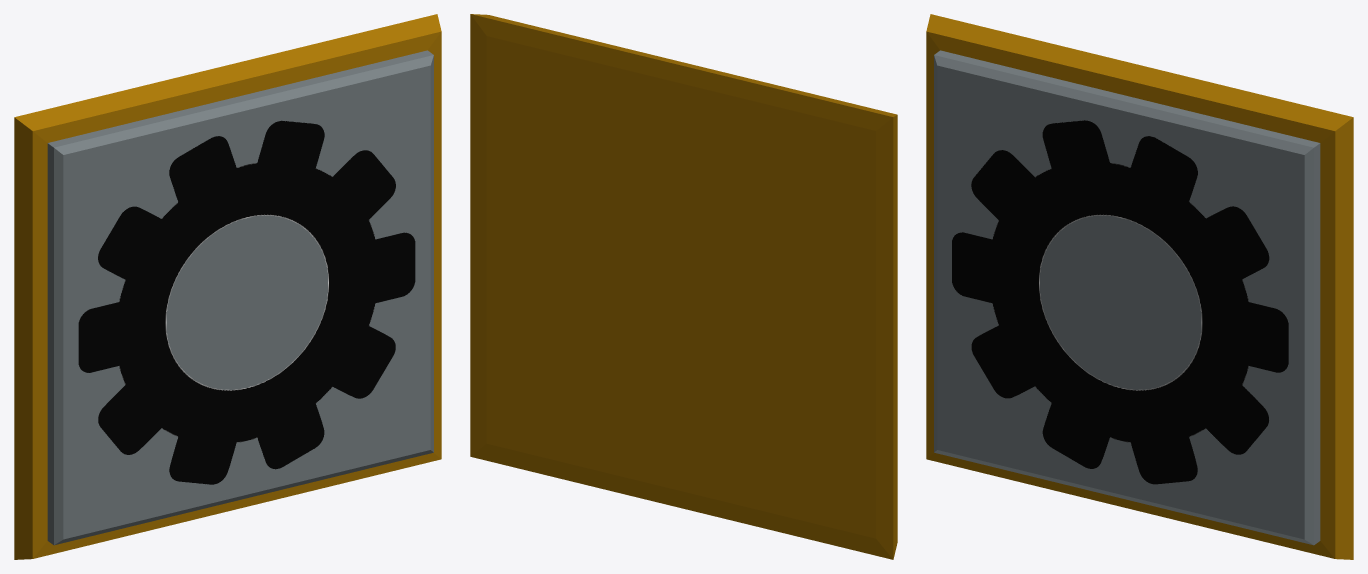
The model's file is PressurePlate.fbx.
3 renders of one model, left to right at view 1: azimuth 30°, elevation 25°; view 2: azimuth 150°, elevation 25°; view 3: azimuth 330°, elevation 25°, orthographic.
Parts seen in each view (by area): view 1: Cube.001, Plane, Cube; view 2: Cube; view 3: Cube.001, Plane, Cube.
Part boxes in pixels (x1,y1,x2,y2): Cube.001: (47,50,433,545); Plane: (78,120,415,484); Cube: (14,14,441,559); Cube: (470,14,897,559); Cube.001: (934,50,1320,545); Plane: (952,120,1288,484); Cube: (926,14,1353,559).
Bounding box in the file's own units: 19.97 × 19.97 × 1.79.
3 materials, 1 textured.
